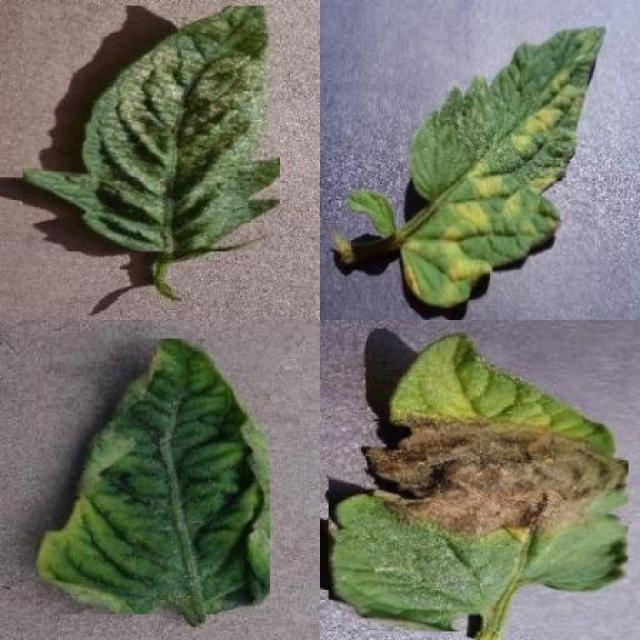Late Blight: (330, 329, 630, 632)
Leaf Mold: (397, 25, 606, 308)
Spider Mites: (23, 7, 280, 252)
Yellow Leaf Curl Virus: (36, 339, 270, 614)
